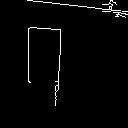cube: (23, 20, 73, 107)
